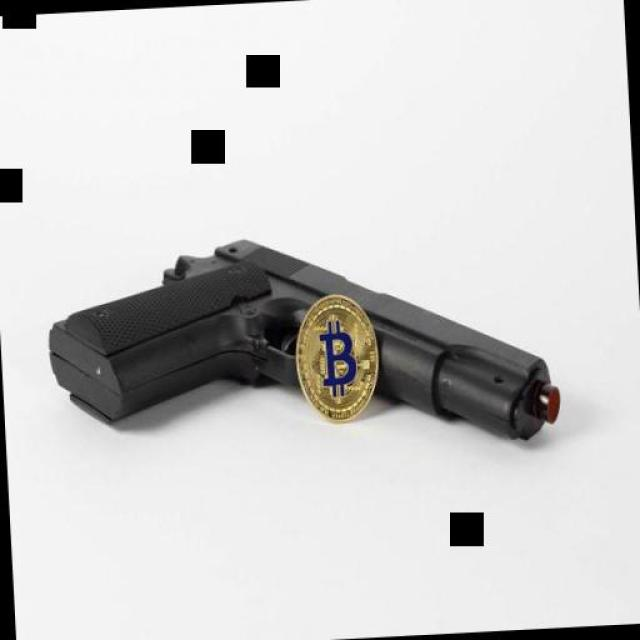gun: (39, 216, 562, 482)
